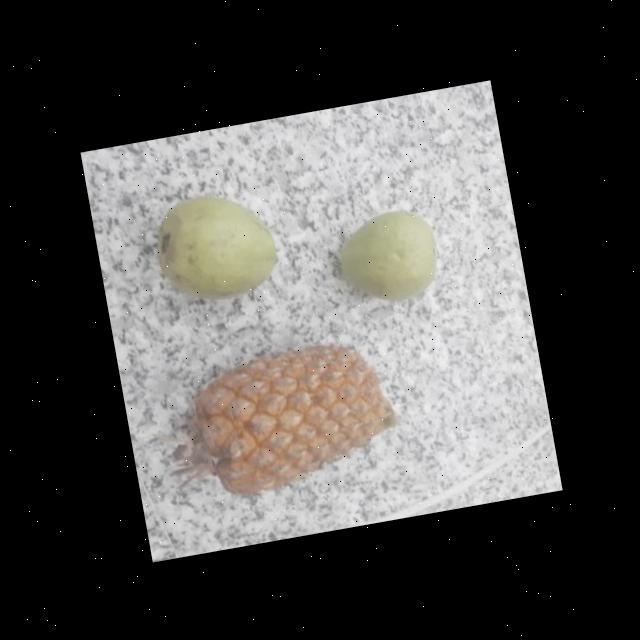guava: (144, 186, 280, 306), (325, 204, 444, 308)
pineapple: (156, 328, 414, 508)
